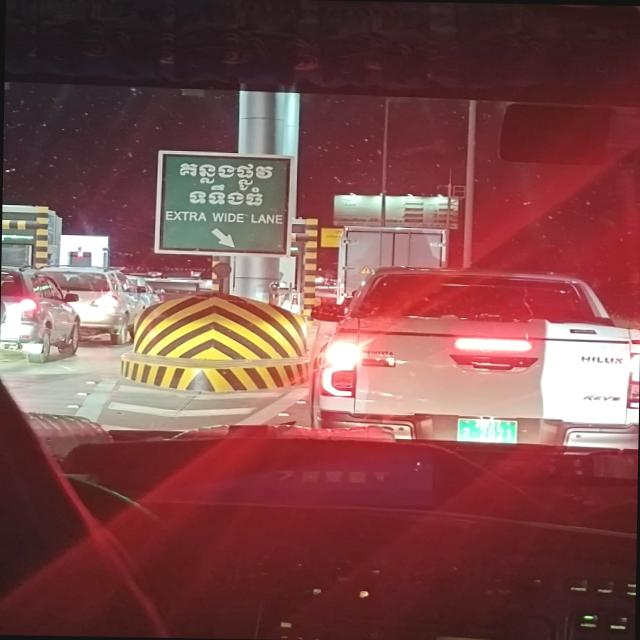Yolov11kh: (176, 157, 274, 193), (184, 179, 263, 207)
